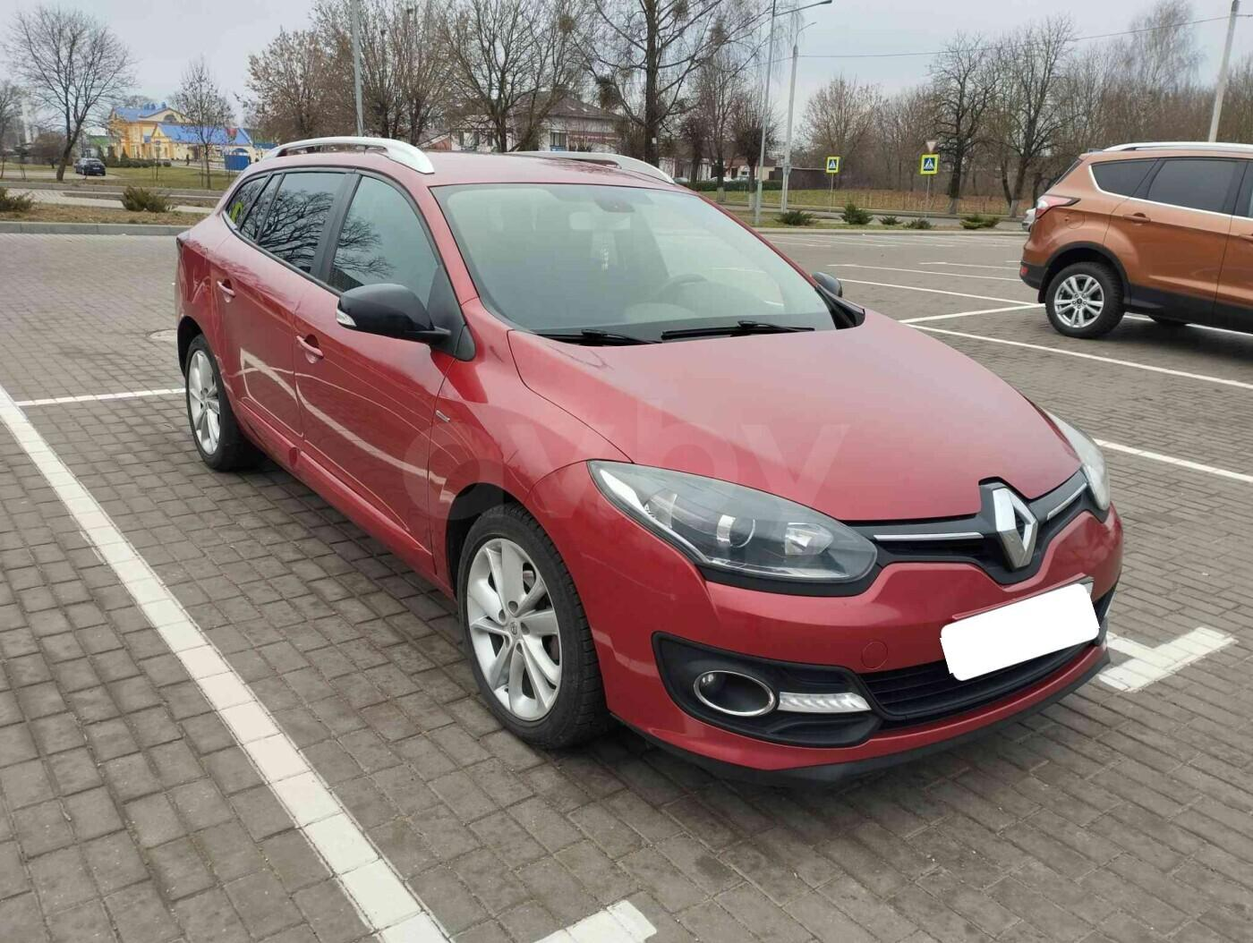Megane_2014-2016: (166, 134, 1132, 810)
